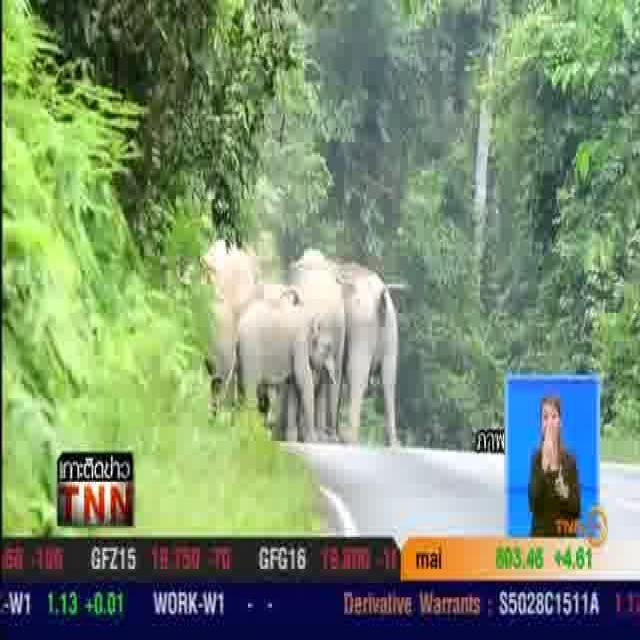Elephant: (242, 285, 333, 406), (340, 255, 405, 412)
